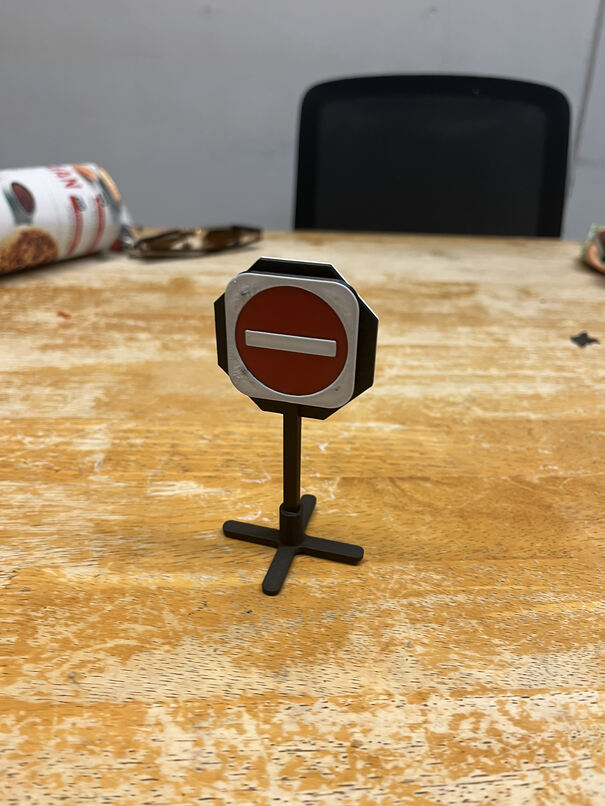sign_noentry: (222, 269, 362, 407)
